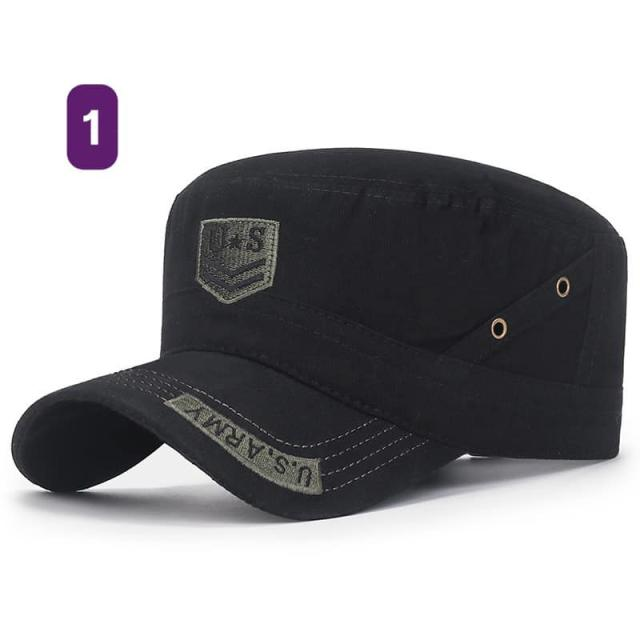no_helmet: (2, 137, 634, 531)
